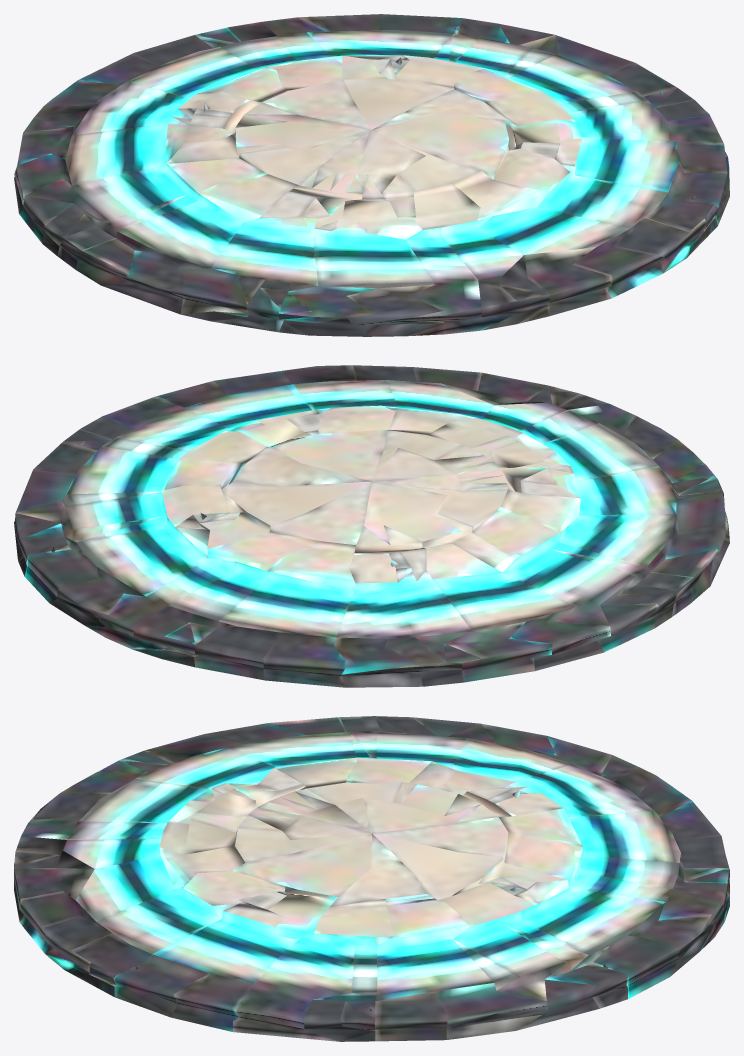
File: teleport-pad.lod2.glb
The picture shows the model from 3 angles, top to bottom: view 1: azimuth 30°, elevation 25°; view 2: azimuth 150°, elevation 25°; view 3: azimuth 270°, elevation 25°; orthographic projection.
Size of the model in its own units: 2.4 by 0.2139 by 2.4.
1 material, 1 textured.
